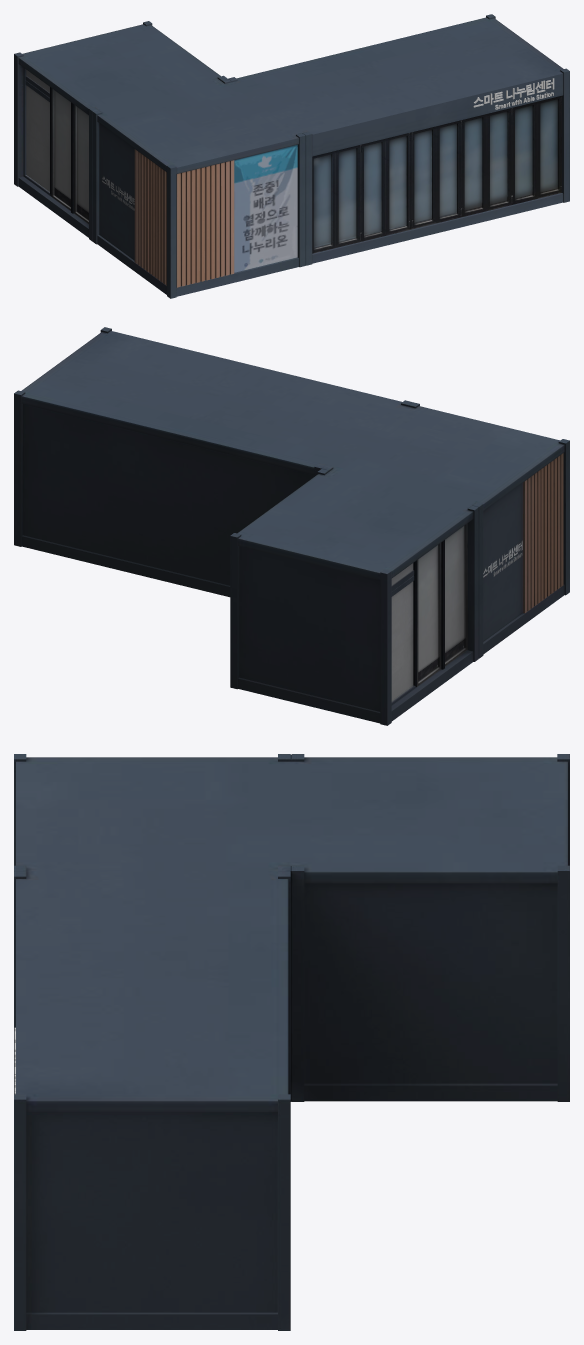
3 renders of one model, top to bottom at view 1: azimuth 30°, elevation 25°; view 2: azimuth 150°, elevation 25°; view 3: azimuth 270°, elevation 25°, orthographic. The views are drawn at different scales.
Parts seen in each view (by area): view 1: PK_box_002; view 2: PK_box_002; view 3: PK_box_002.
Boxes of the visible parts, x1=… form: PK_box_002: x1=14, y1=14, x2=569, y2=298; PK_box_002: x1=14, y1=327, x2=569, y2=725; PK_box_002: x1=14, y1=754, x2=569, y2=1330.
Size of the model in its own units: 773 by 526 by 241.
